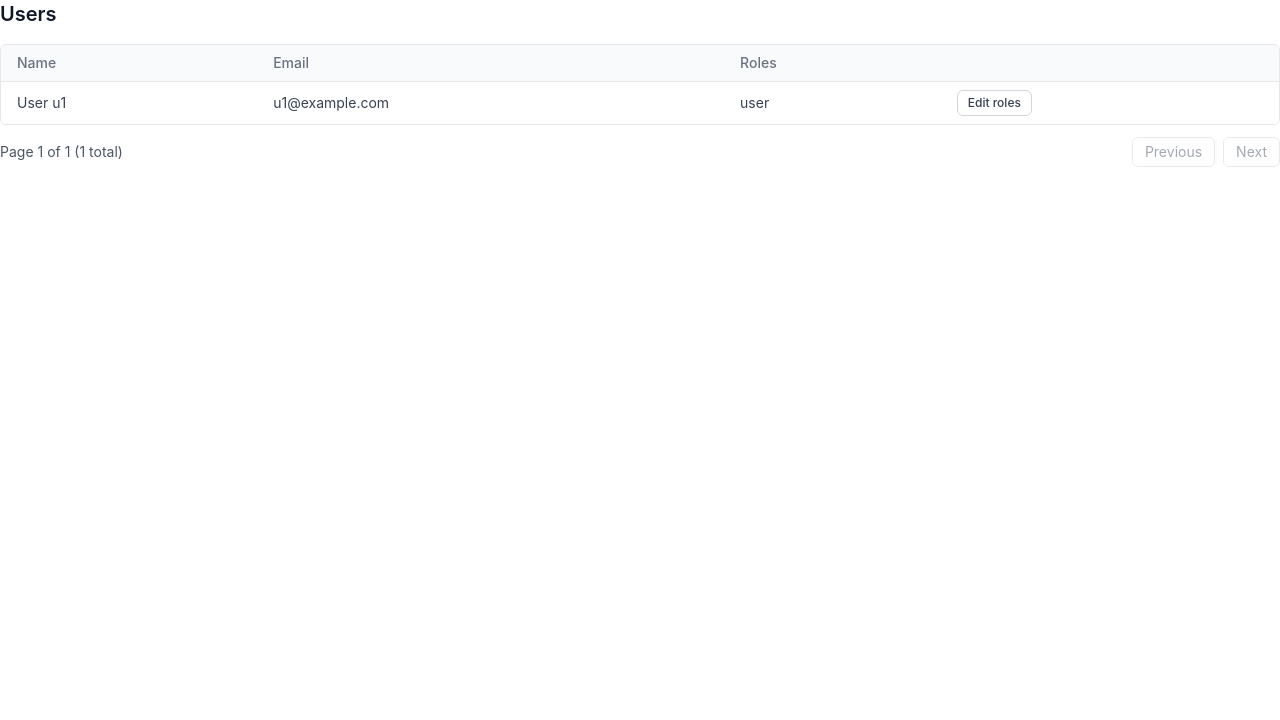
UsersPage › lets a roles:manage holder change someone's roles, then refetches the list
Click the button with aria-label "Edit roles for User u1". click: (994,103)
box: [957, 90, 1032, 116]
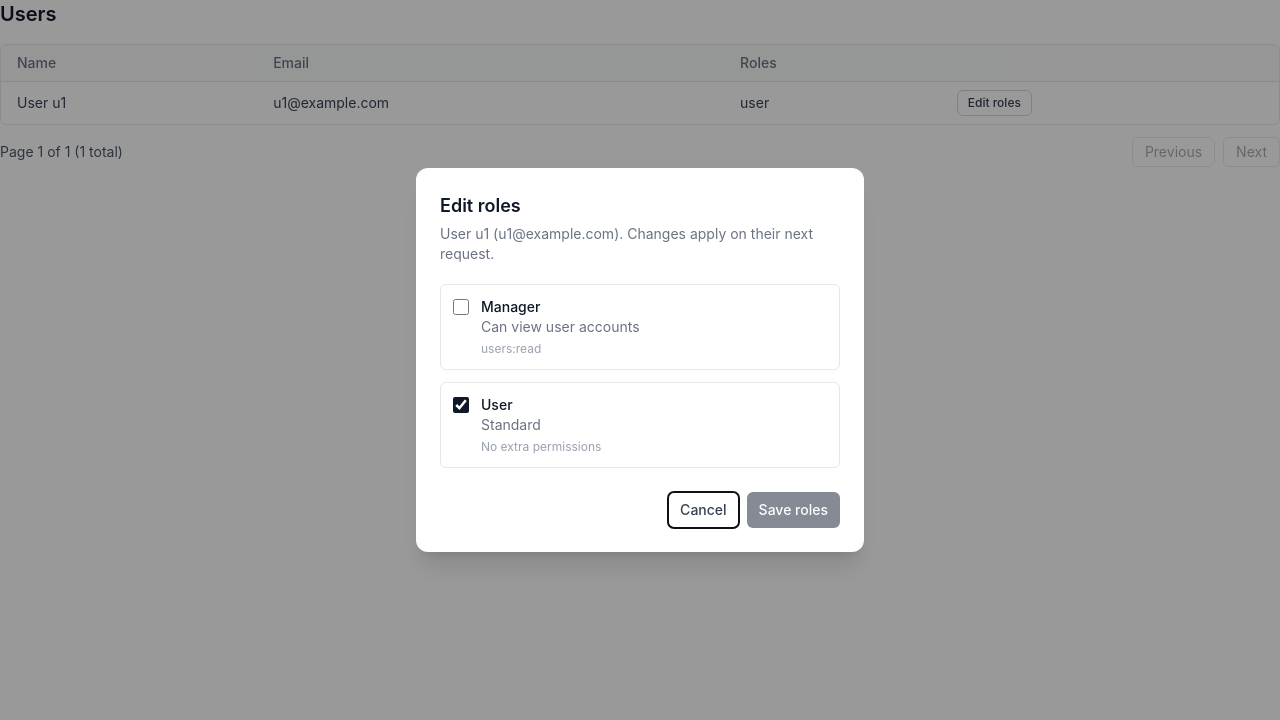
Click the checkbox labelled "manager Can view user accounts users:read". click: (461,307)
box: [453, 299, 469, 315]
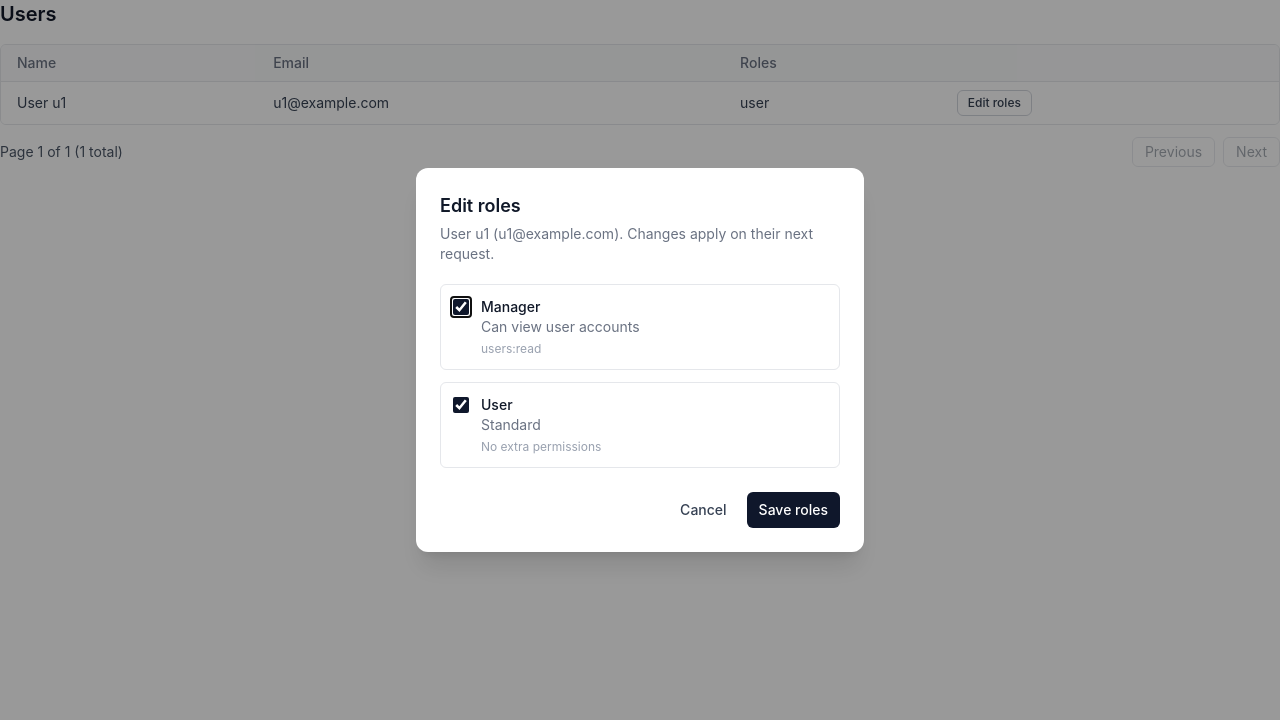
Click the button "Save roles". click: (793,510)
box: [747, 492, 840, 528]
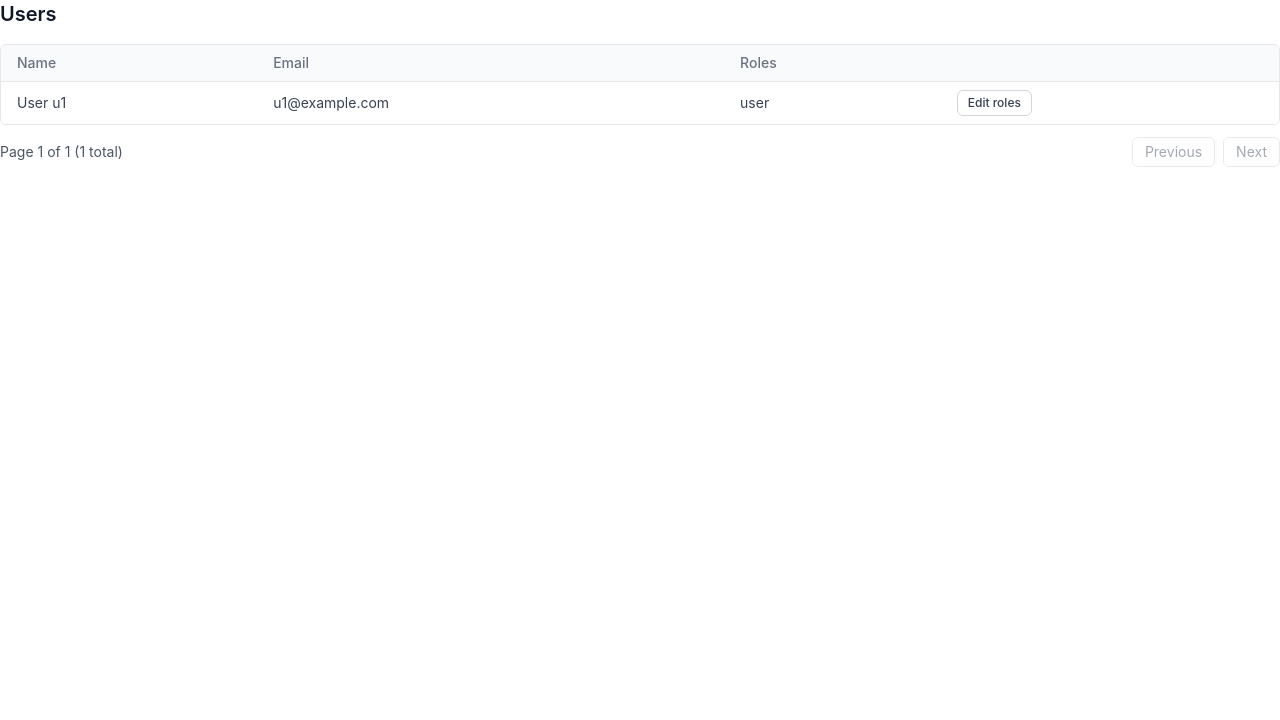
Result: the dialog is gone
